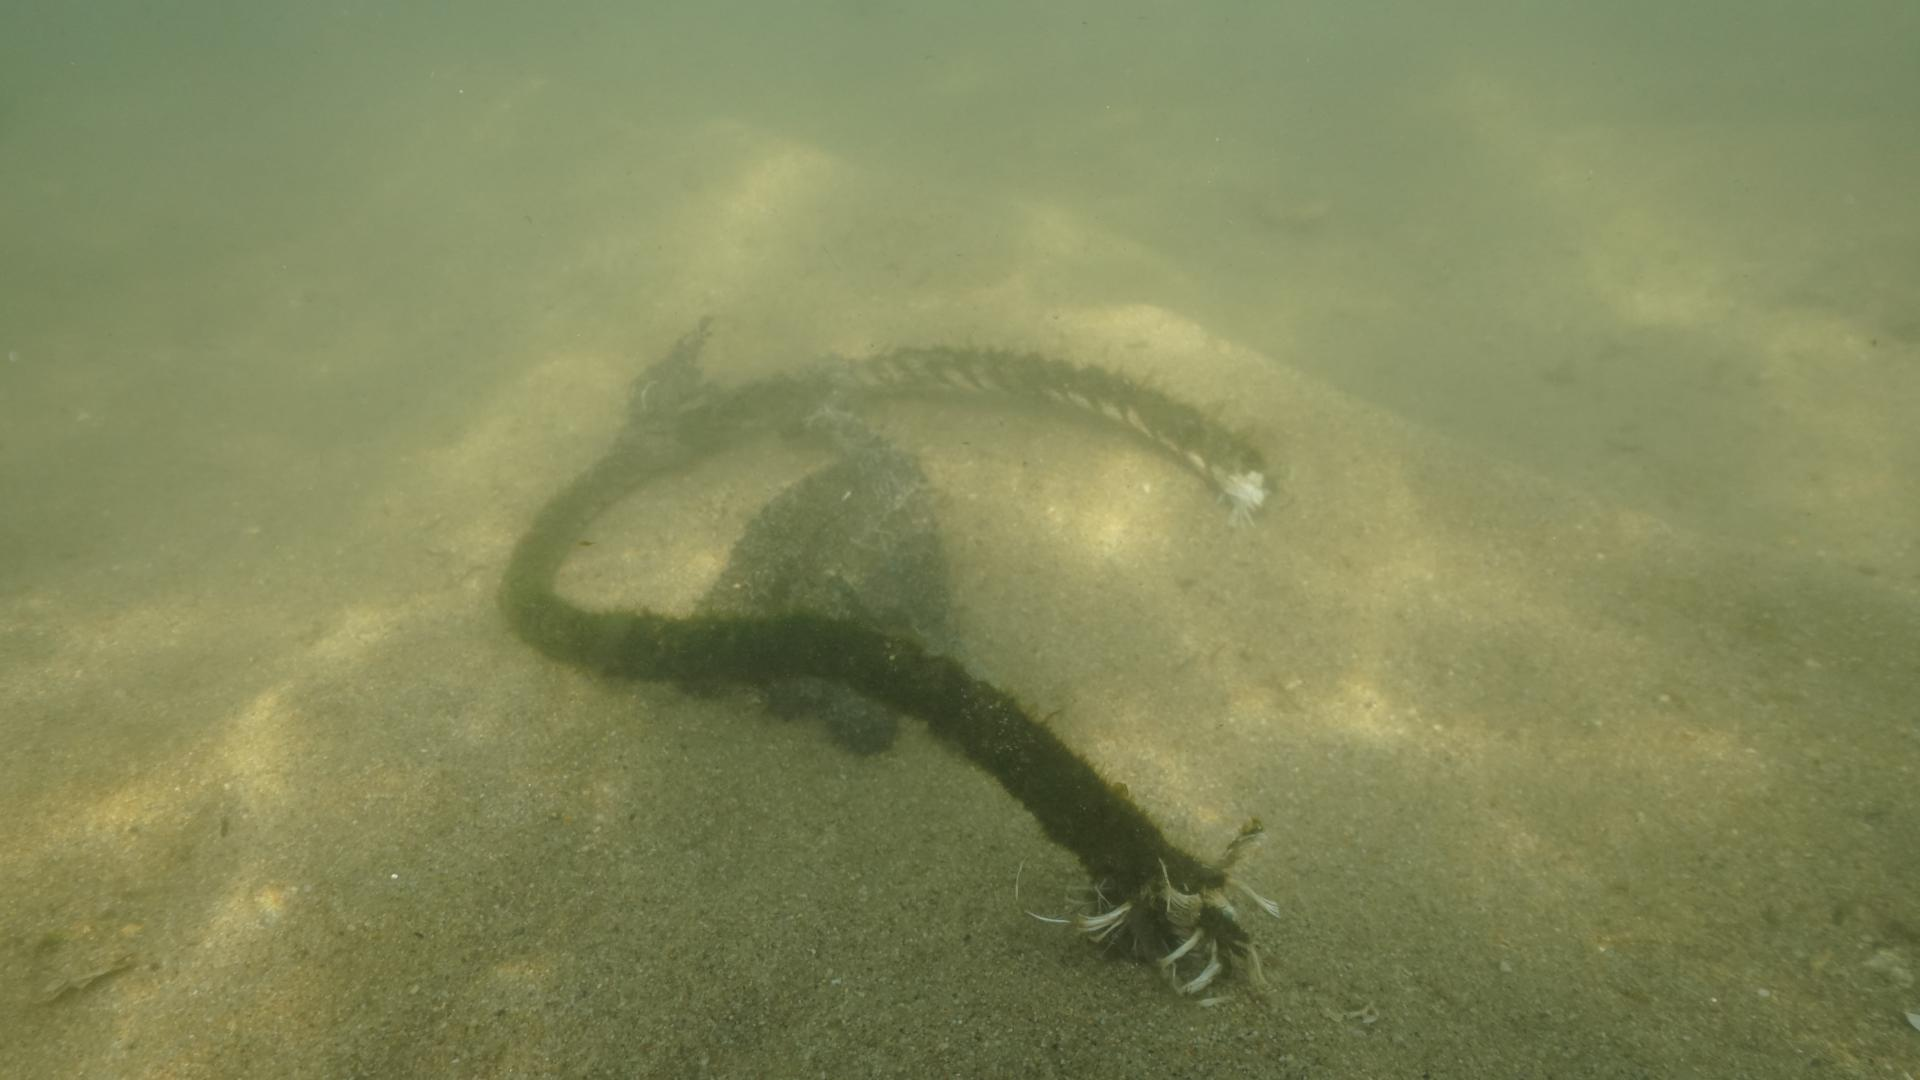rope: (495, 344, 1265, 1000)
